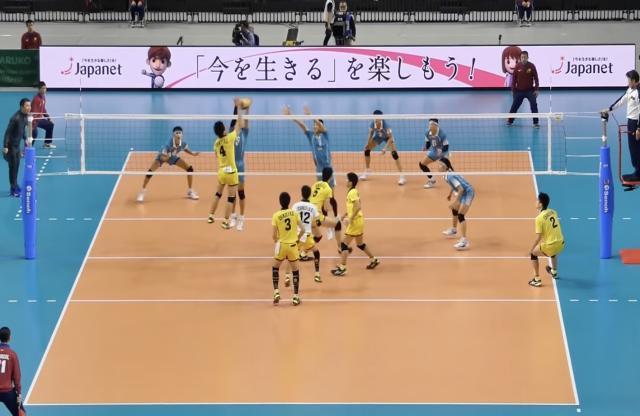spike: (206, 96, 253, 232)
